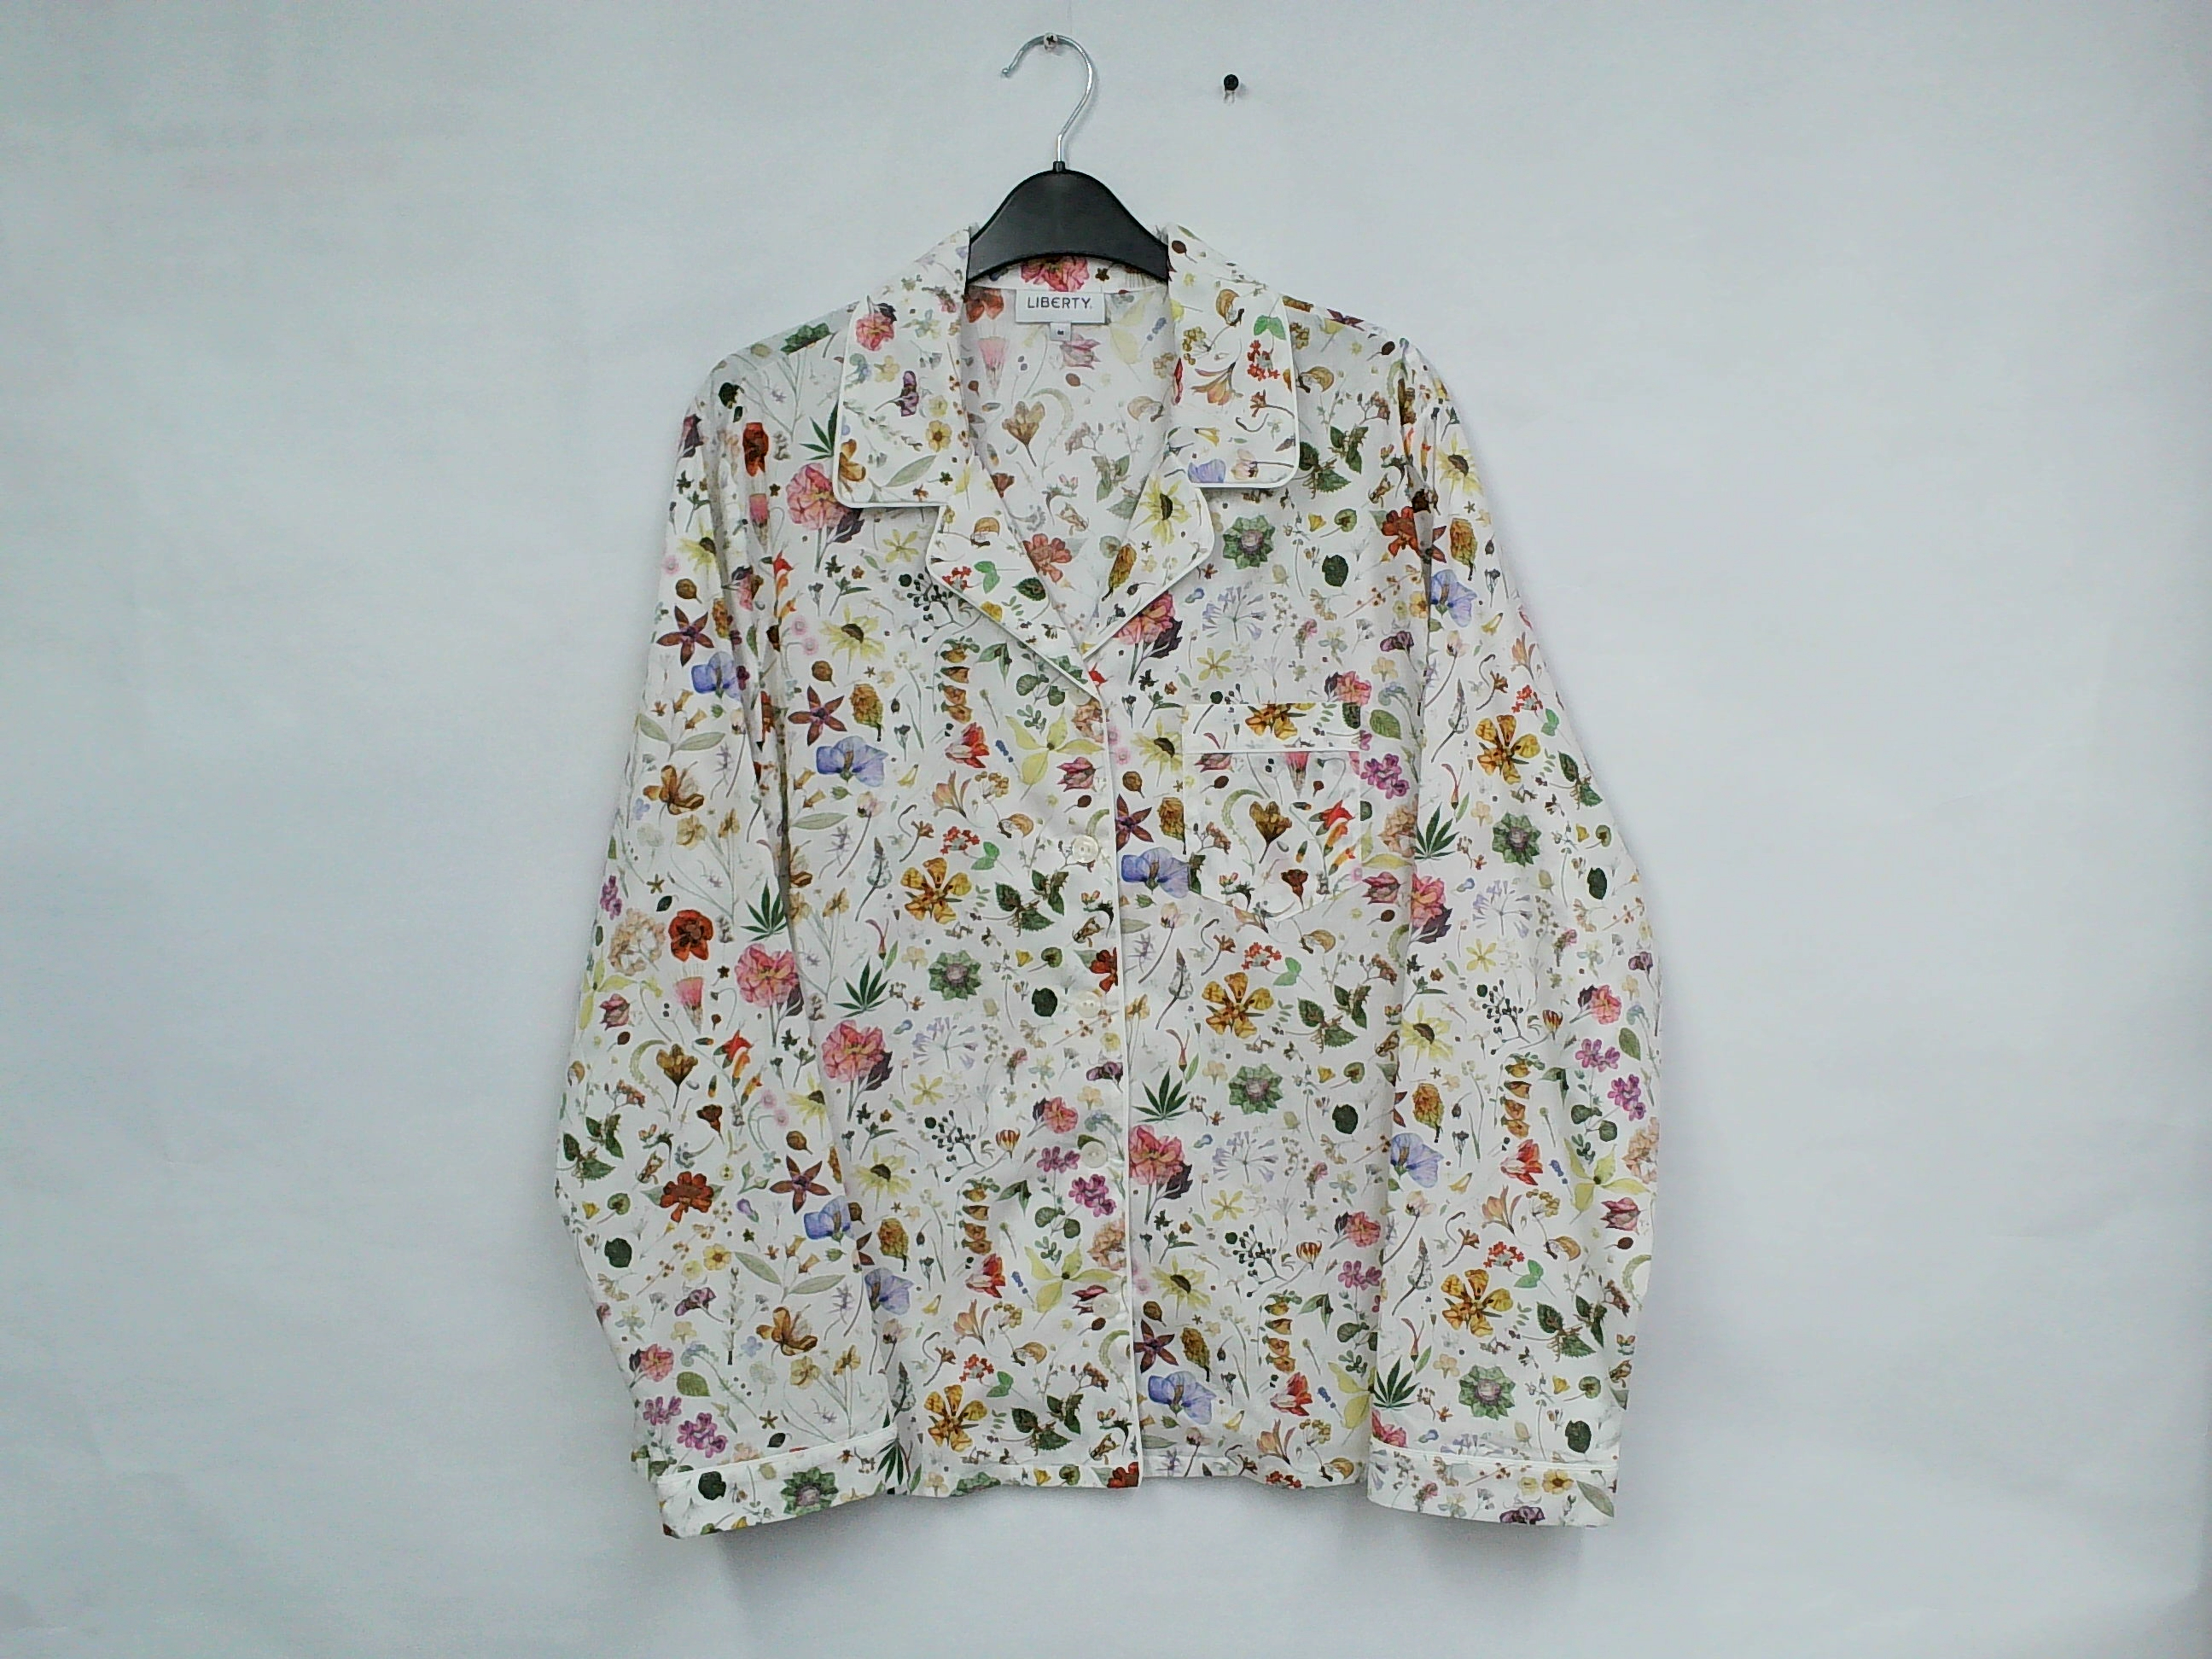seam: (949, 1439, 1109, 1516), (1169, 1422, 1308, 1495)
